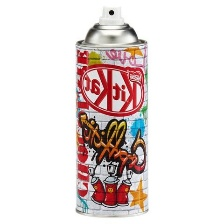aerosol_cans: (70, 3, 155, 221)
